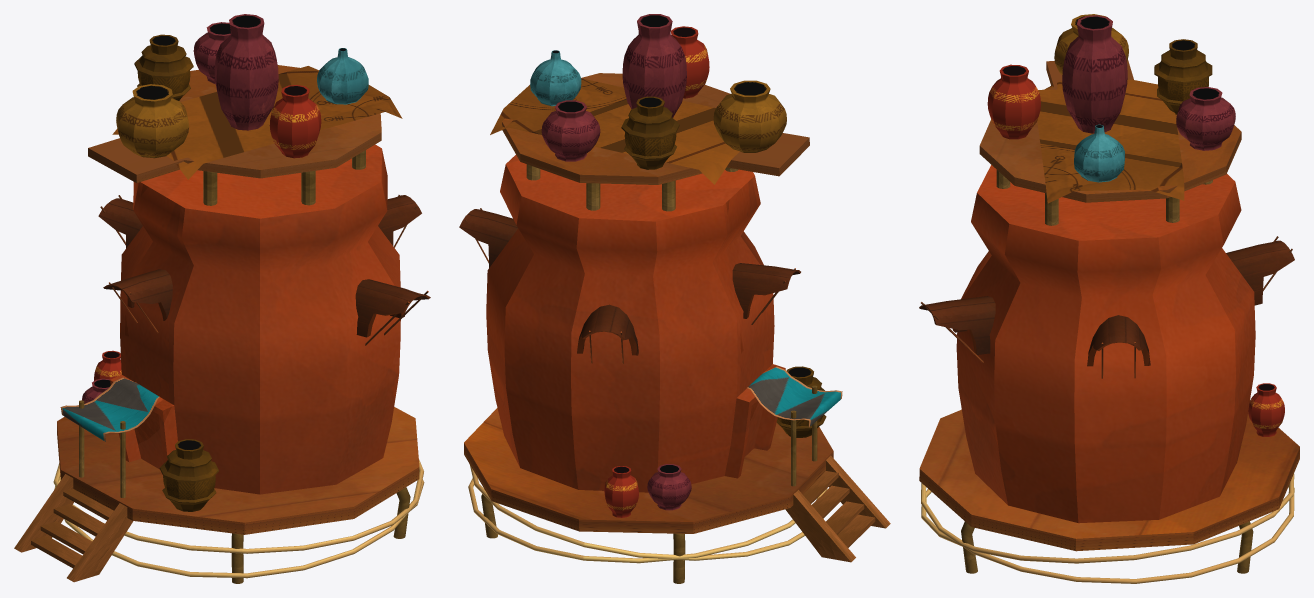
Rendered from maison3.fbx.
3 views of the same model, side by side, from view 1: azimuth 30°, elevation 25°; view 2: azimuth 150°, elevation 25°; view 3: azimuth 270°, elevation 25° (orthographic). The views are drawn at different scales.
Parts seen in each view (by area): view 1: polySurface491, pCylinder200, polySurface521, pCube66, polySurface523, polySurface522, pTorus42, pPlane43, pPipe92, pPipe87, pPipe89, pPipe88 (+2 smaller); view 2: polySurface491, pCylinder200, polySurface521, pCube66, polySurface523, polySurface522, pTorus42, pPipe89, pPlane43, pPipe86, pPipe88, pPipe87 (+4 smaller); view 3: polySurface491, pCylinder200, polySurface521, polySurface523, pTorus42, pPipe87, pPipe86, pPipe89, pPipe88, pPipe90, polySurface522, pCylinder202 (+1 smaller).
Boxes of the visible parts, x1=… form: polySurface491: x1=88, y1=65, x2=430, y2=494; pCylinder200: x1=57, y1=407, x2=419, y2=534; polySurface521: x1=112, y1=66, x2=402, y2=179; pCube66: x1=14, y1=474, x2=133, y2=582; polySurface523: x1=214, y1=14, x2=278, y2=130; polySurface522: x1=116, y1=84, x2=189, y2=158; pTorus42: x1=53, y1=459, x2=424, y2=578; pPlane43: x1=60, y1=377, x2=159, y2=441; pPipe92: x1=159, y1=439, x2=218, y2=511; pPipe87: x1=269, y1=84, x2=321, y2=158; pPipe89: x1=134, y1=34, x2=193, y2=100; pPipe88: x1=317, y1=48, x2=368, y2=104; polySurface491: x1=459, y1=73, x2=809, y2=492; pCylinder200: x1=464, y1=408, x2=833, y2=533; polySurface521: x1=490, y1=78, x2=739, y2=184; pCube66: x1=785, y1=455, x2=890, y2=562; polySurface523: x1=622, y1=14, x2=686, y2=117; polySurface522: x1=713, y1=80, x2=786, y2=152; pTorus42: x1=468, y1=464, x2=827, y2=563; pPipe89: x1=621, y1=96, x2=679, y2=169; pPlane43: x1=747, y1=366, x2=842, y2=427; pPipe86: x1=541, y1=100, x2=600, y2=161; pPipe88: x1=530, y1=50, x2=581, y2=106; pPipe87: x1=671, y1=26, x2=709, y2=98; polySurface491: x1=919, y1=59, x2=1294, y2=523; pCylinder200: x1=919, y1=409, x2=1299, y2=551; polySurface521: x1=1037, y1=79, x2=1184, y2=203; polySurface523: x1=1062, y1=15, x2=1127, y2=133; pTorus42: x1=921, y1=474, x2=1294, y2=583; pPipe87: x1=987, y1=64, x2=1040, y2=139; pPipe86: x1=1176, y1=87, x2=1235, y2=150; pPipe89: x1=1154, y1=39, x2=1212, y2=114; pPipe88: x1=1074, y1=124, x2=1124, y2=182; pPipe90: x1=1248, y1=383, x2=1284, y2=436; polySurface522: x1=1054, y1=14, x2=1128, y2=74; pCylinder202: x1=961, y1=521, x2=977, y2=573.
Bounding box in the file's own units: 17.45 × 20.93 × 14.39.
